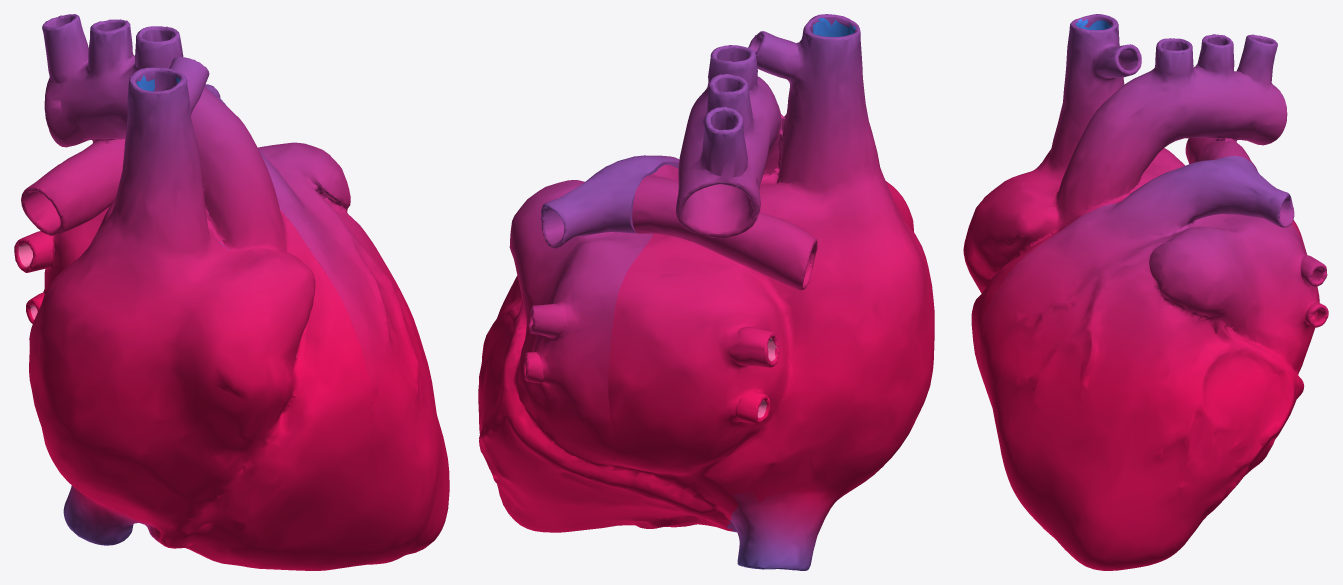
Rendered from Asset_09_Heart.fbx.
3 views of the same model, side by side, from view 1: azimuth 30°, elevation 25°; view 2: azimuth 150°, elevation 25°; view 3: azimuth 270°, elevation 25° (orthographic). The views are drawn at different scales.
Parts seen in each view (by area): view 1: Lp_Heart_Back, Lp_Heart_Front; view 2: Lp_Heart_Back, Lp_Heart_Front; view 3: Lp_Heart_Front, Lp_Heart_Back.
Boxes of the visible parts, x1,y1,x2,y2 form: Lp_Heart_Back: [14, 14, 372, 570]; Lp_Heart_Front: [205, 84, 449, 570]; Lp_Heart_Back: [608, 14, 934, 570]; Lp_Heart_Front: [478, 155, 683, 532]; Lp_Heart_Front: [979, 156, 1328, 570]; Lp_Heart_Back: [963, 14, 1305, 404].
Bounding box in the file's own units: 2328 × 3025 × 2256.
